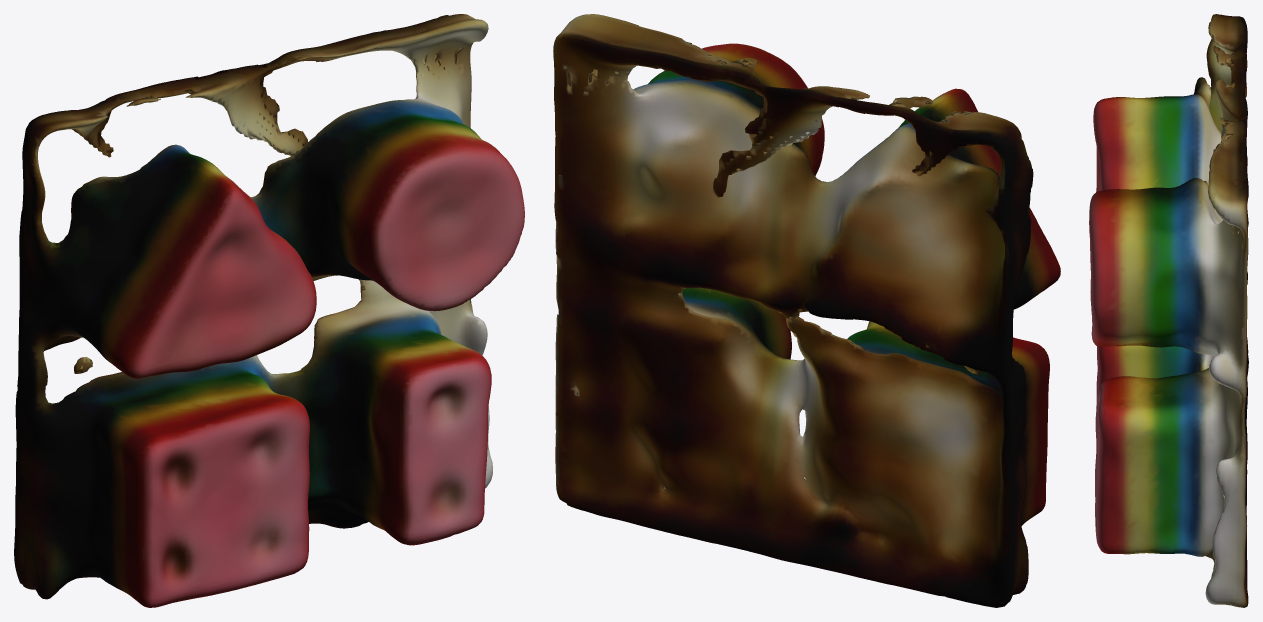
The model's file is sorting_board.glb.
3 renders of one model, left to right at view 1: azimuth 30°, elevation 25°; view 2: azimuth 150°, elevation 25°; view 3: azimuth 270°, elevation 25°, orthographic. The views are drawn at different scales.
Bounding box in the file's own units: 0.9973 × 0.9988 × 0.3423.
